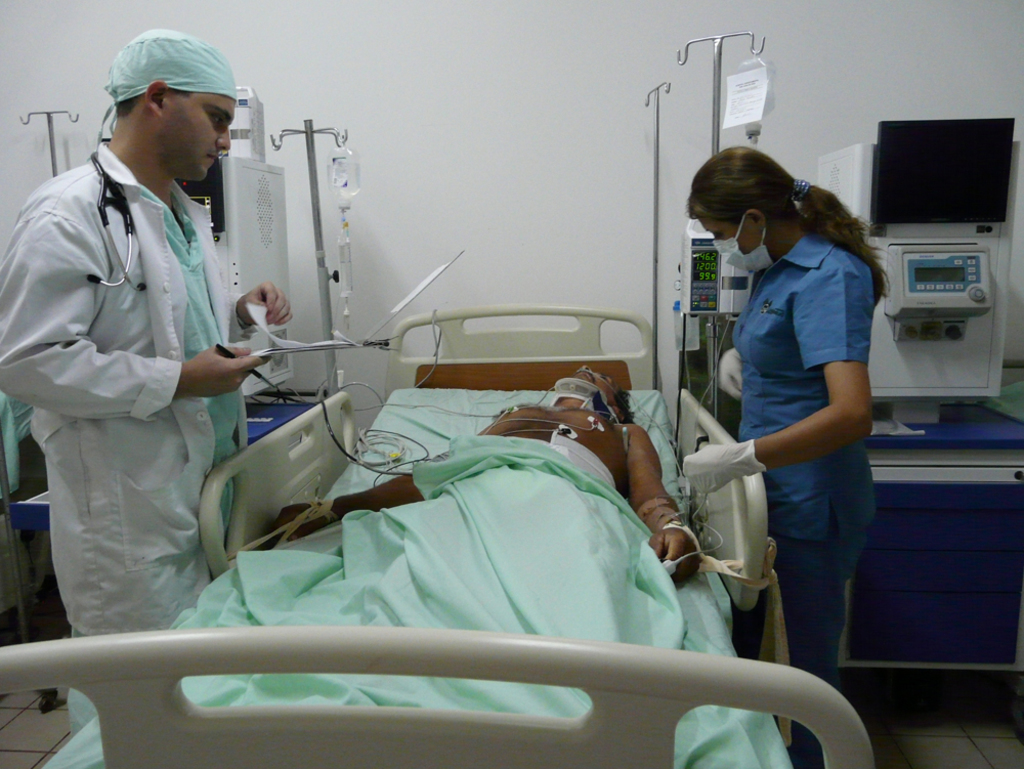Person: (0, 28, 293, 738), (687, 144, 888, 749), (273, 364, 701, 585)
